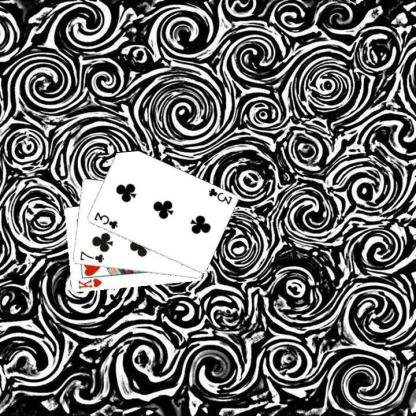3C: (206, 186, 233, 206), (92, 210, 118, 230)
7C: (77, 248, 105, 264)
KH: (76, 276, 103, 290)
